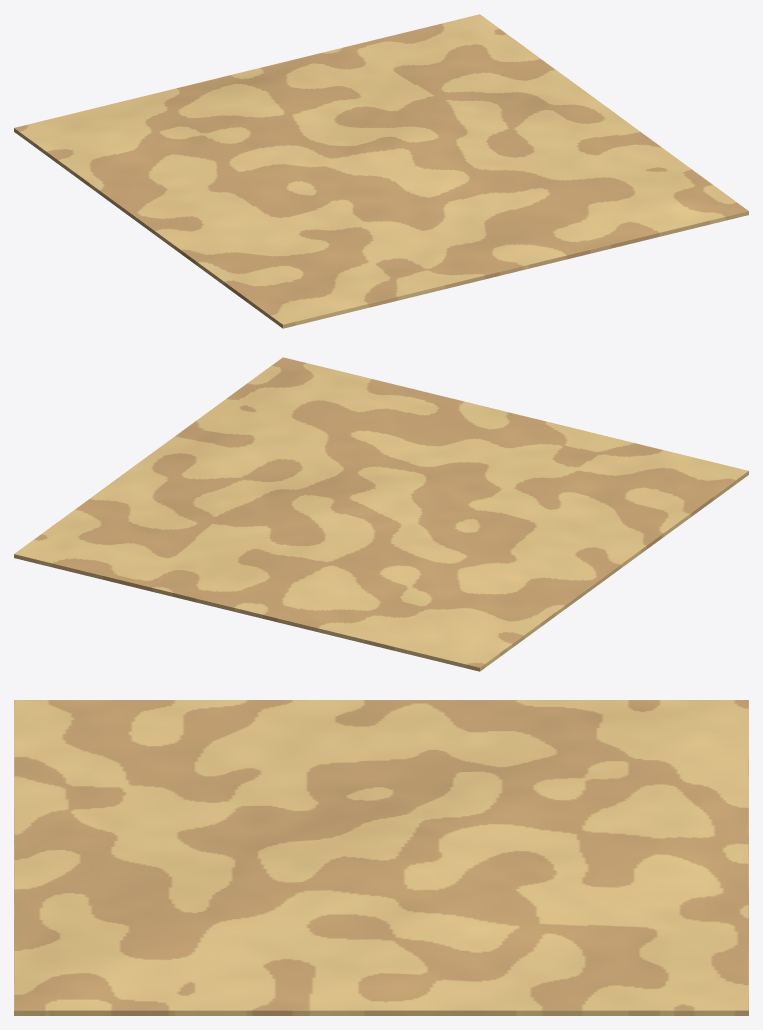
The model's file is Desert_Flat_08.obj.
3 renders of one model, top to bottom at view 1: azimuth 30°, elevation 25°; view 2: azimuth 150°, elevation 25°; view 3: azimuth 270°, elevation 25°, orthographic. The views are drawn at different scales.
Bounding box in the file's own units: 10 × 0.3135 × 10.
1 material, 1 textured.
